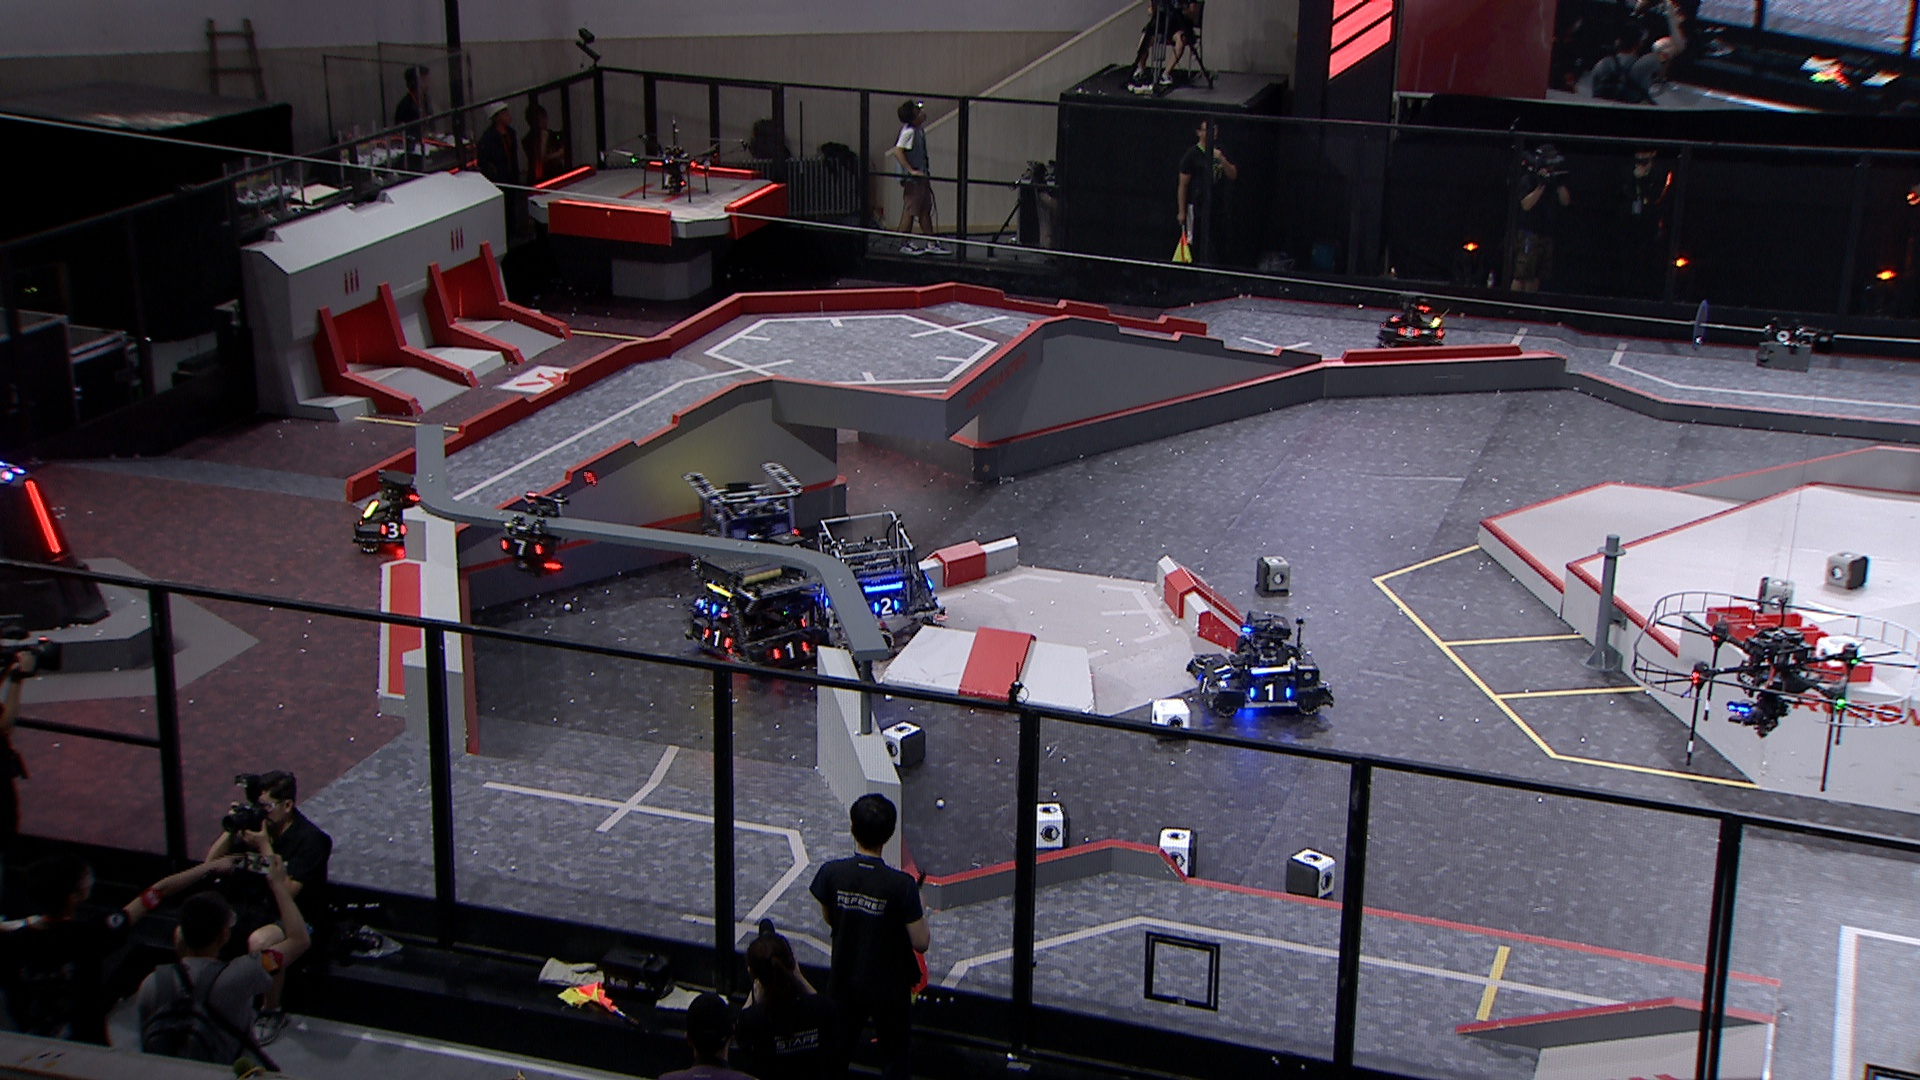armor: (22, 480, 63, 559), (498, 538, 542, 559), (770, 641, 812, 662), (1255, 684, 1290, 704), (703, 626, 731, 650), (1211, 661, 1234, 680), (380, 520, 407, 535), (1193, 673, 1212, 695), (814, 585, 828, 605), (876, 597, 895, 612), (698, 597, 717, 612), (1396, 327, 1420, 339), (1387, 313, 1404, 324)
car: (675, 465, 811, 636), (807, 508, 945, 647), (698, 549, 837, 674), (1182, 609, 1335, 721), (349, 465, 439, 553), (1375, 291, 1447, 351)
watcher: (491, 495, 574, 585)
